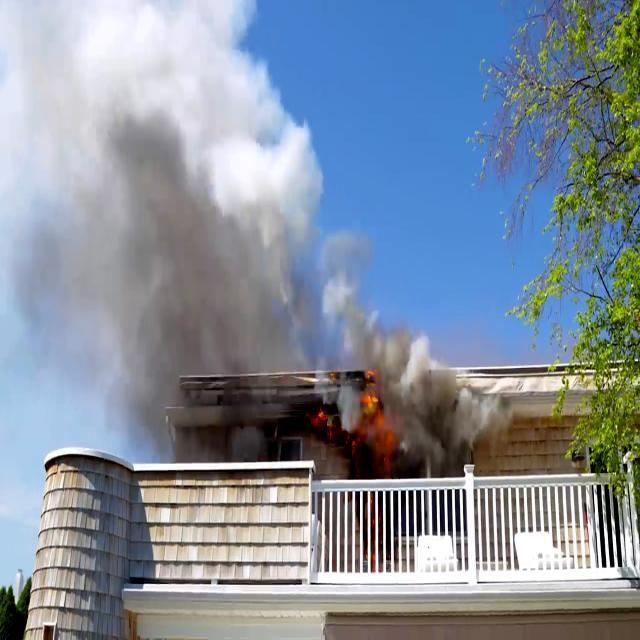Fire: (357, 383, 390, 418)
Smoke: (6, 1, 380, 458), (388, 319, 520, 474)
